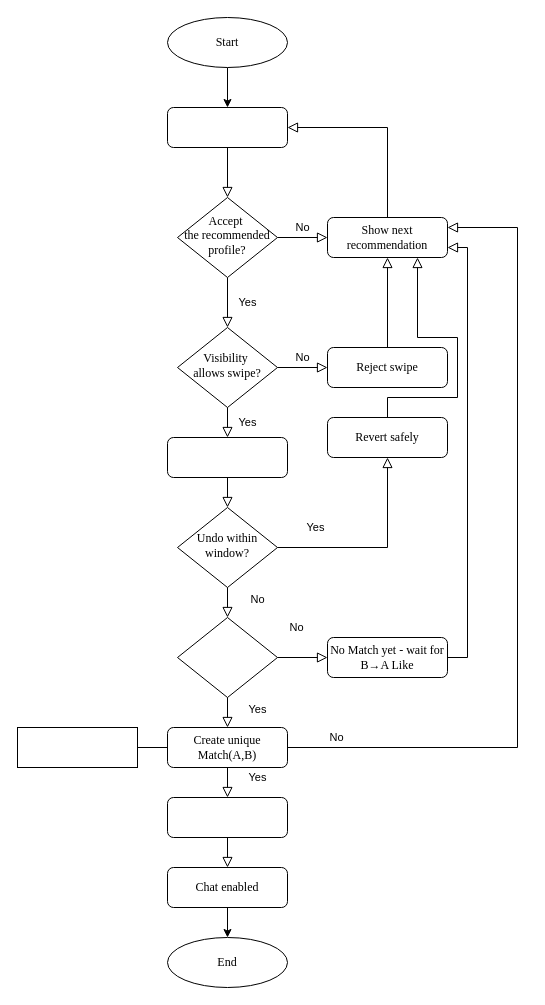
The diagram is 545 pixels wide and 1005 high, and some of its shapes have lost their labels. The shapes that lost their labels are listed below. From the top down, each one's centre as x and y in pixels, then its label:
(227,127): See recommended profile.
(227,457): Store Like (A→B) idempotent
(227,657): Does B→A Like exist now?
(77,747): Open 1:1 ChatThread (seed “You matched!”)
(227,817): Send notifications (with retries)
